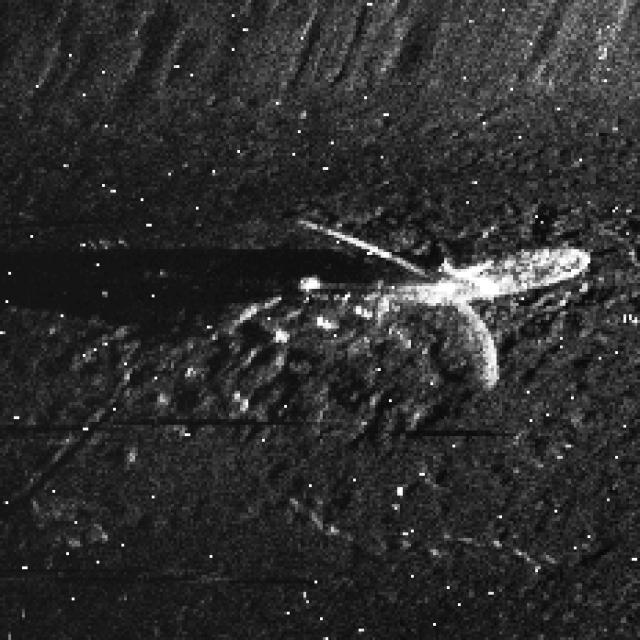plane: (213, 201, 604, 414)
